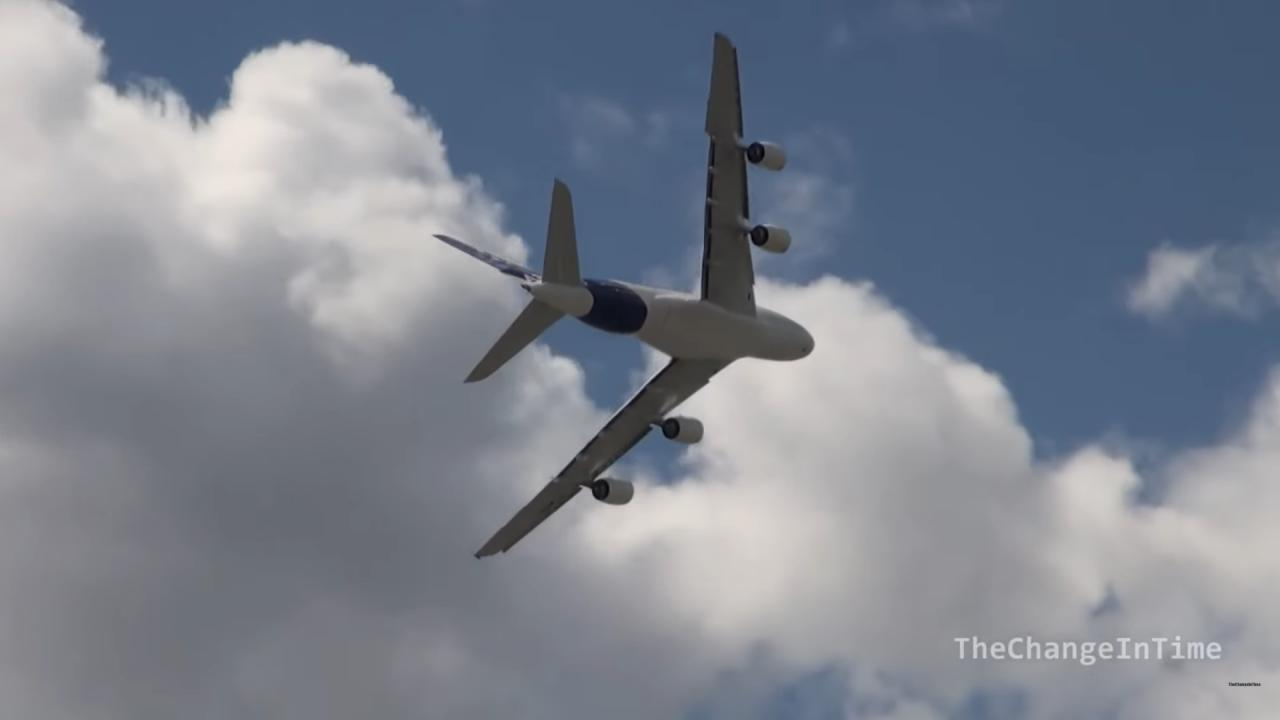Airplane: (423, 21, 826, 570)
